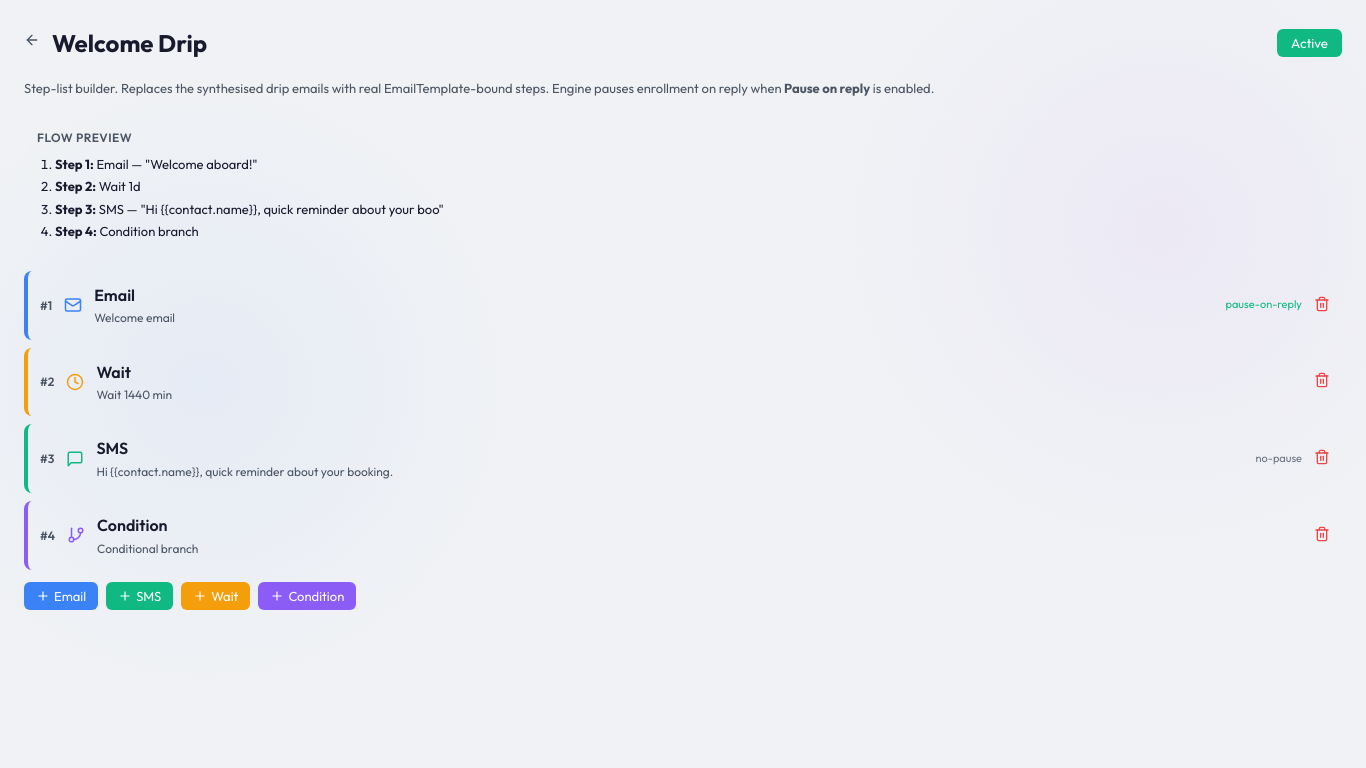
Scenario: <SequenceBuilder /> — page surface › clicking a step row opens the StepEditor side panel with the kind-specific input
The image size is (1366, 768).
Step 1. Click the text "Welcome email" → {"x": 135, "y": 318}, box [94,310,175,325]
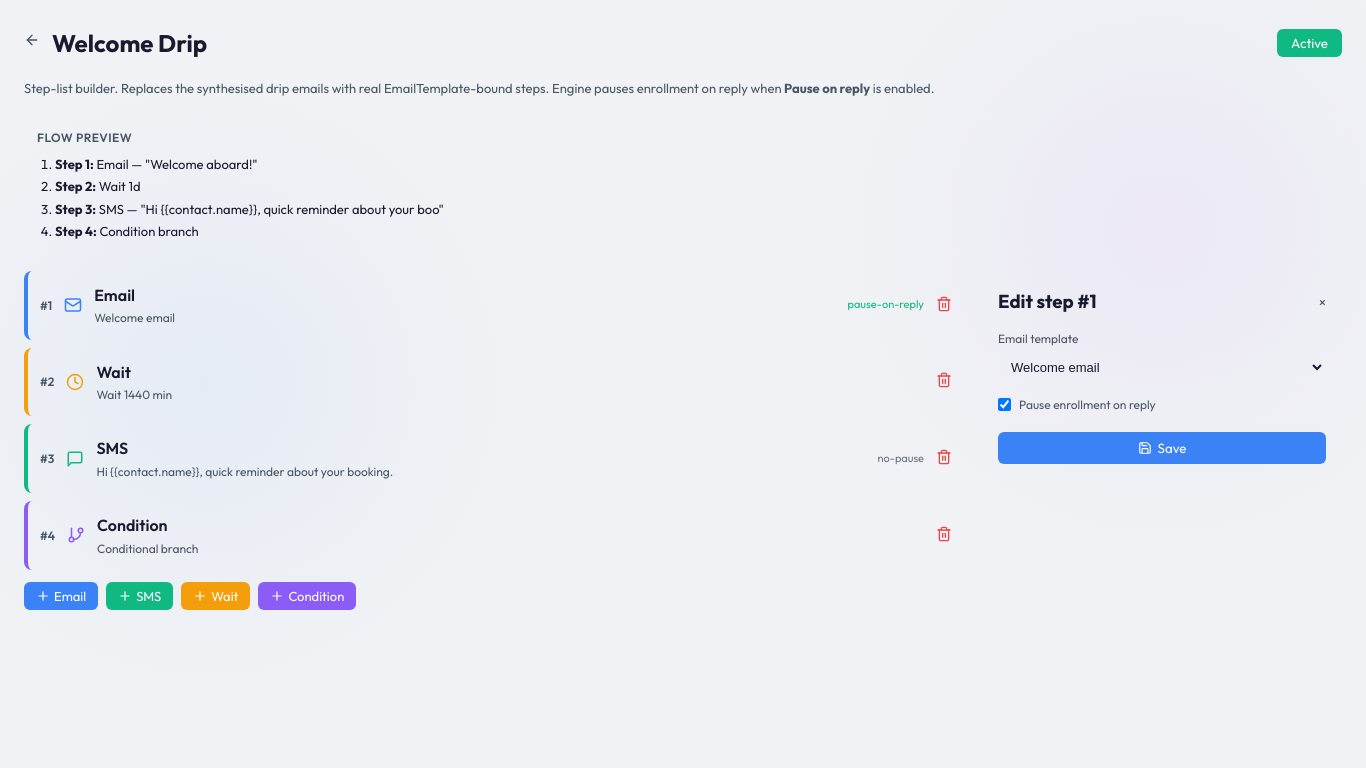
Result: the heading "Edit step #1" is shown at [998,289,1097,313]
Result: the text "Email template" is shown at [998,331,1078,346]
Step 2. Click the text "Wait 1440 min" → {"x": 134, "y": 395}, box [96,387,172,402]
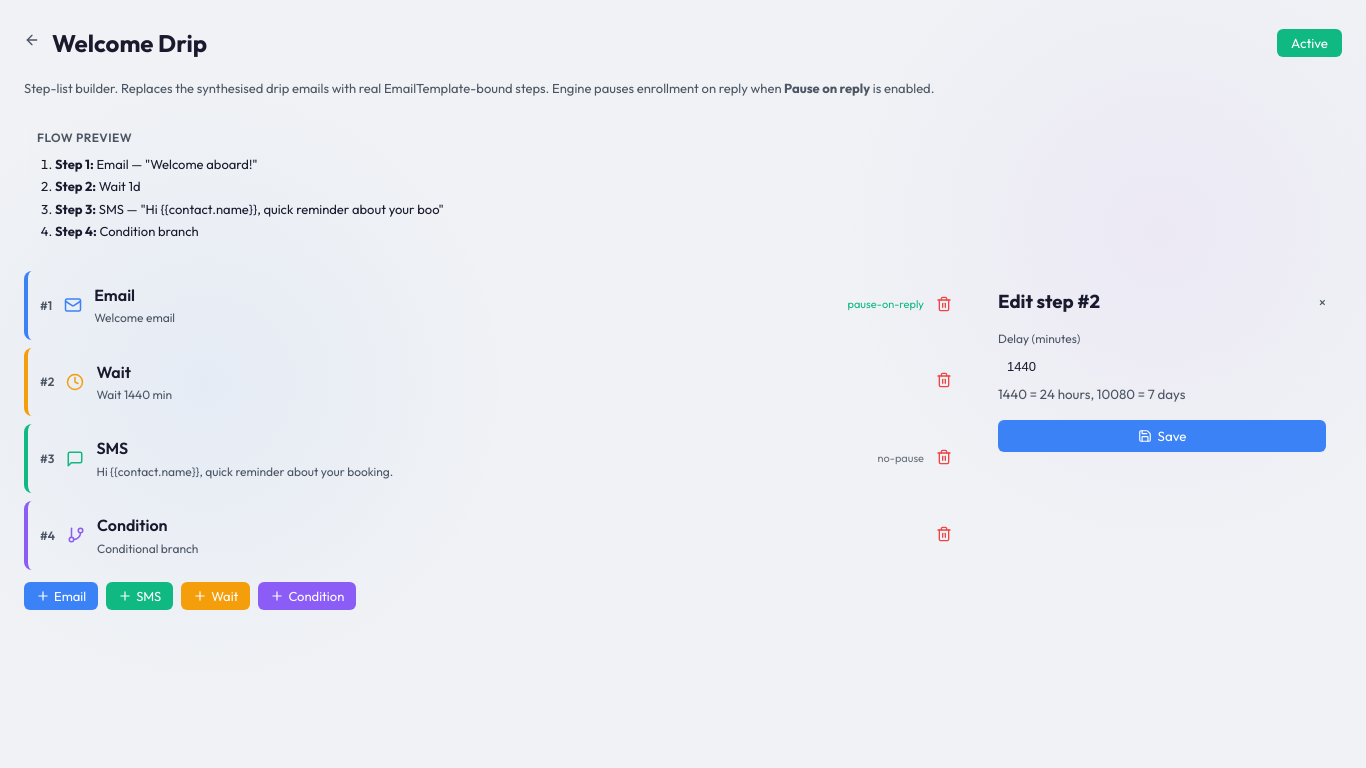
Result: the heading "Edit step #2" is shown at [998,289,1100,313]
Result: the text "Delay (minutes)" is shown at [998,331,1080,346]
